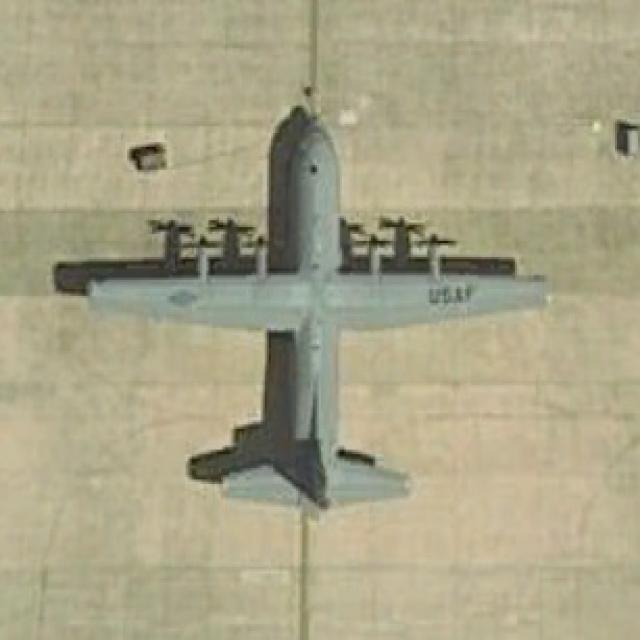C-130_TopDown: (47, 104, 559, 519)
